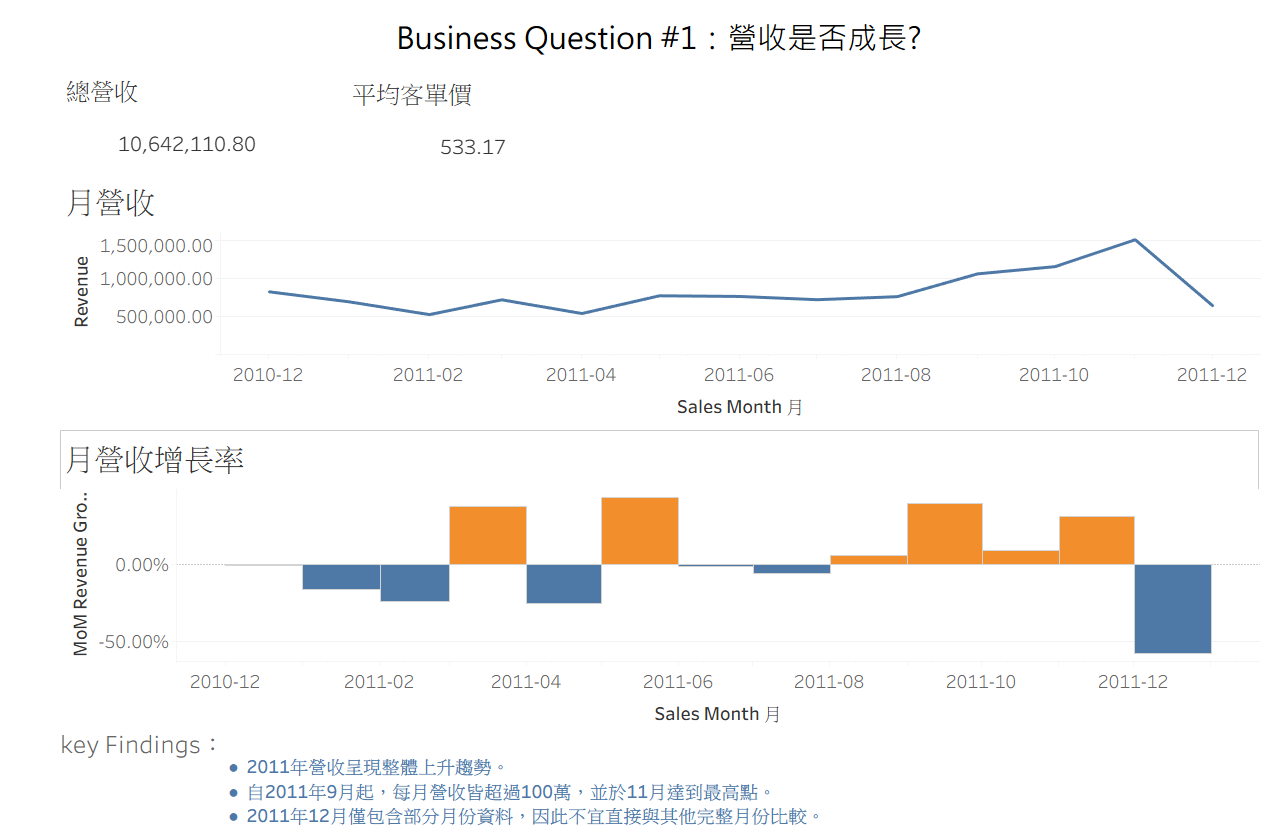

This screenshot's page, from the dashboard's own definition file:
{"tool":"tableau","page":{"name":"營收成長儀表板","canvas":[1200,850],"ordinal":0},"visuals":[{"type":"text","box":[0,6,1200,50]},{"type":"worksheet","title":"Total Revenue","mark":"Automatic","box":[3,58,250,100]},{"type":"worksheet","title":"Average Order Value","mark":"Automatic","box":[289,61,250,100]},{"type":"worksheet","title":"Monthly Revenue","mark":"Automatic","rows":["Calculation_0257887555051522"],"cols":["Calculation_0257887572770822"],"box":[2,164,1200,250]},{"type":"worksheet","title":"Monthly Revenue Growth","mark":"Bar","rows":["Calculation_0257887582801927"],"cols":["Calculation_0257887572770822"],"box":[1,421,1200,300]},{"type":"text","box":[165,721,1034,118]}]}

Visuals, with their boxes on the page's 1200x850 design canvas (x1, y1, x2, y2). These are canvas units, not pixel positions in the 1277x837 screenshot, which may show the page scaled, cropped or inside an application window:
text: region(0, 6, 1200, 56)
"Total Revenue" worksheet: region(3, 58, 253, 158)
"Average Order Value" worksheet: region(289, 61, 539, 161)
"Monthly Revenue" worksheet: region(2, 164, 1202, 414)
"Monthly Revenue Growth" worksheet (Bar marks): region(1, 421, 1201, 721)
text: region(165, 721, 1199, 839)
